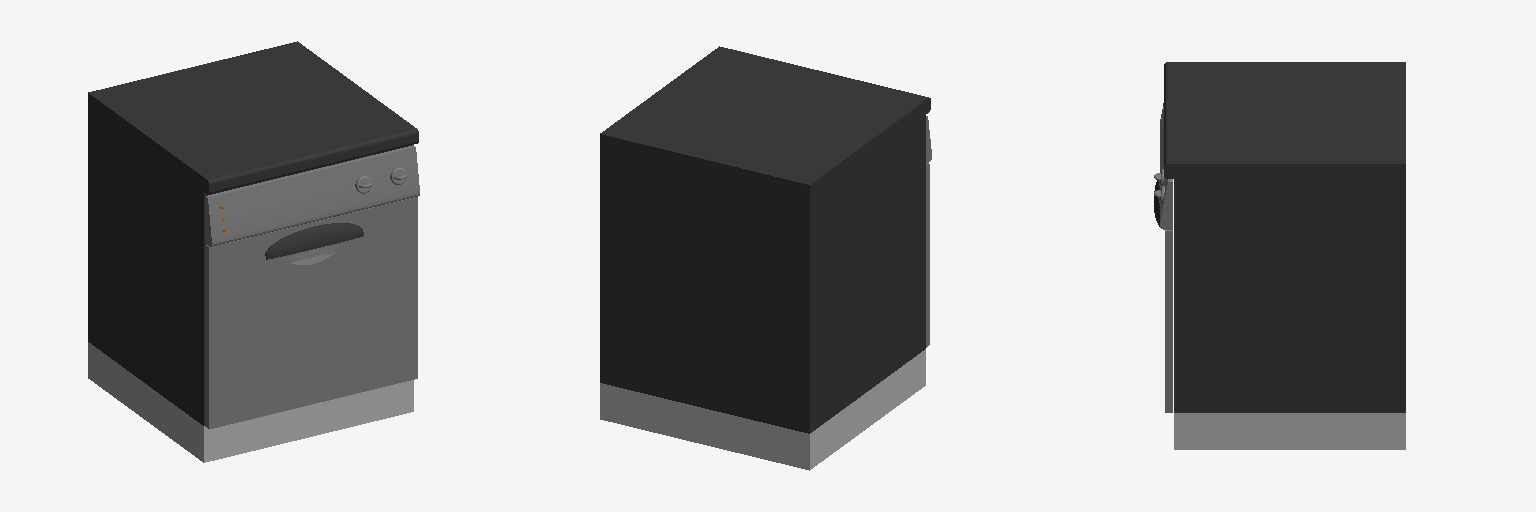
Rendered from dishwasher.obj.
3 views of the same model, side by side, from view 1: azimuth 30°, elevation 25°; view 2: azimuth 150°, elevation 25°; view 3: azimuth 270°, elevation 25° (orthographic).
Visible parts, largest first — view 1: Box32_11, Line55_3, Box31_12, Box34_10, Line56_13, Tube03_7; view 2: Box31_12, Line55_3, Box34_10, Box32_11; view 3: Box31_12, Line55_3, Box34_10, Box32_11, Line56_13.
Boxes of the visible parts, box(x1,y1,x2,y2) form: Box32_11: box(205, 197, 417, 429); Line55_3: box(88, 41, 418, 194); Box31_12: box(88, 108, 411, 425); Box34_10: box(88, 342, 413, 462); Line56_13: box(205, 145, 419, 246); Tube03_7: box(265, 223, 363, 259); Box31_12: box(600, 115, 925, 433); Line55_3: box(600, 46, 930, 199); Box34_10: box(600, 349, 925, 470); Box32_11: box(926, 163, 929, 347); Box31_12: box(1174, 179, 1405, 412); Line55_3: box(1164, 62, 1405, 178); Box34_10: box(1174, 413, 1405, 449); Box32_11: box(1165, 230, 1172, 412); Line56_13: box(1160, 103, 1172, 229).
Size of the model in its own units: 60 by 78 by 62.6.